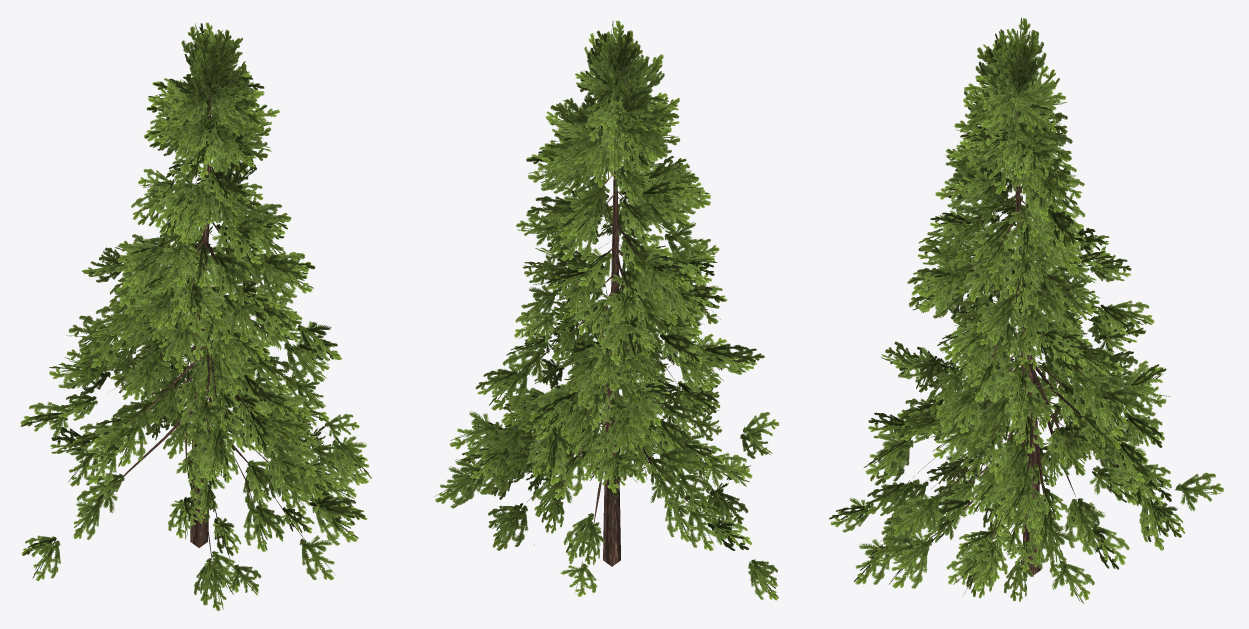
File: ez_pine_b.glb
3 views of the same model, side by side, from view 1: azimuth 30°, elevation 25°; view 2: azimuth 150°, elevation 25°; view 3: azimuth 270°, elevation 25° (orthographic). The views are drawn at different scales.
Parts seen in each view (by area): view 1: Tree; view 2: Tree; view 3: Tree.
Part boxes in pixels (x1,y1,x2,y2): Tree: (20, 22, 371, 611); Tree: (434, 20, 779, 600); Tree: (829, 17, 1224, 603).
Bounding box in the file's own units: 48.9 × 73.53 × 48.1.
2 materials, 2 textured.
